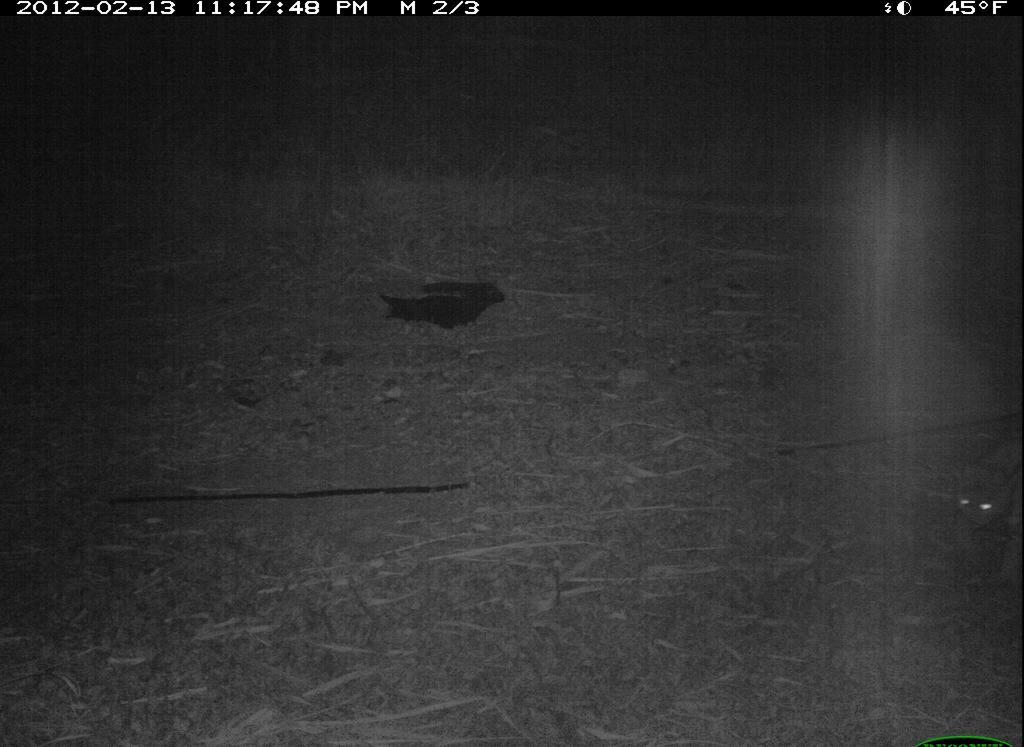bobcat: (943, 415, 1023, 559)
